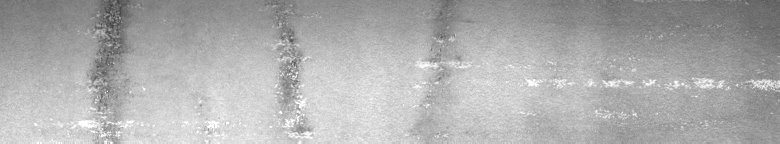hc: (204, 5, 315, 136)
